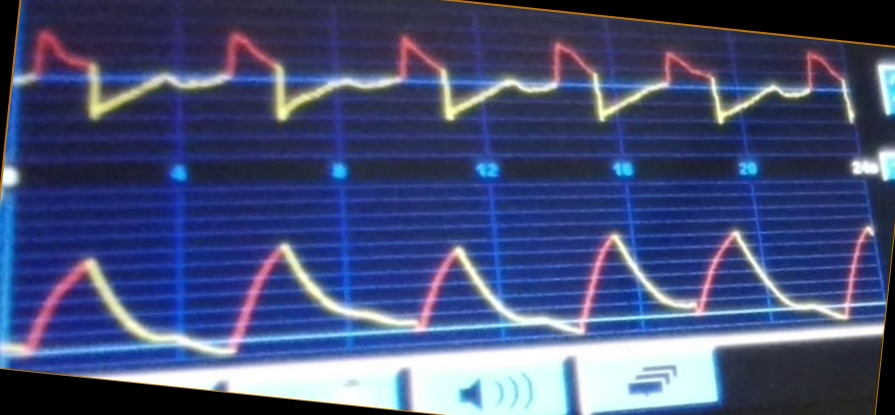Ineffective_effort Flow: (23, 27, 855, 135)
Ineffective_effort Volume: (17, 220, 876, 357)
